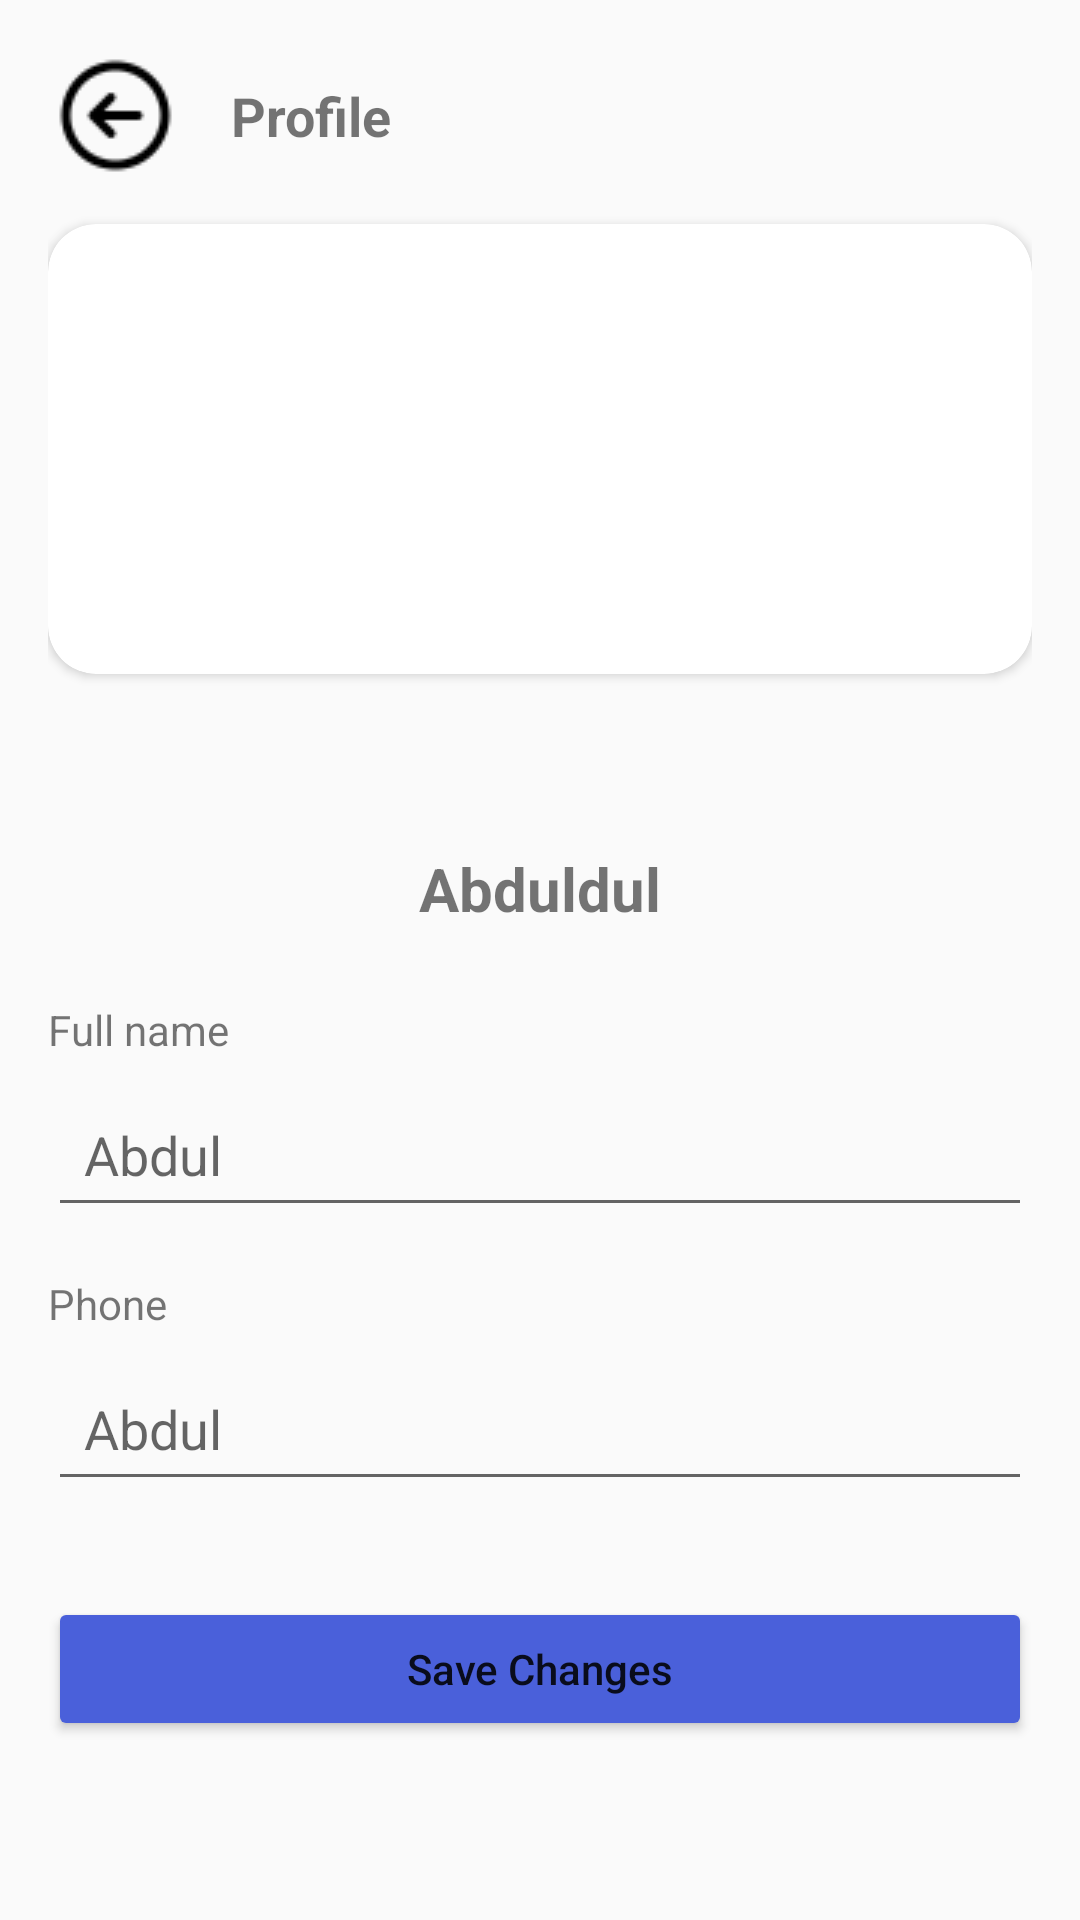

Icons on this 1080px×1920px Android screen, each with the point to tap as [x,y]:
back arrow: [115,115]
